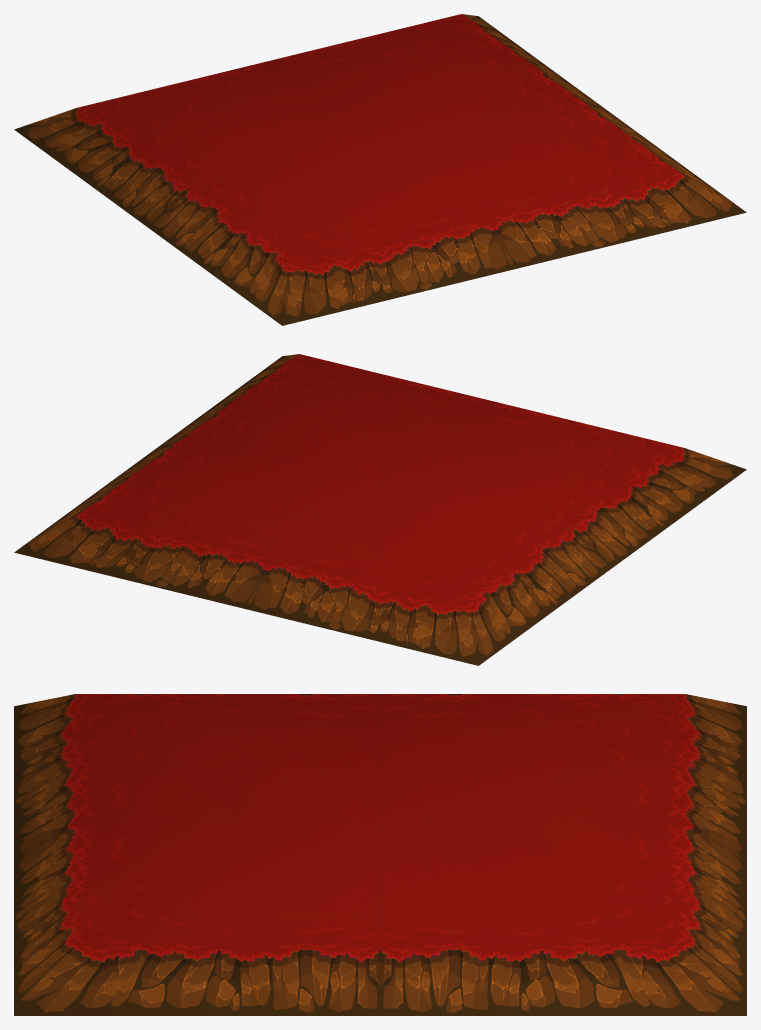
Rendered from Land_01b.FBX.
3 renders of one model, top to bottom at view 1: azimuth 30°, elevation 25°; view 2: azimuth 150°, elevation 25°; view 3: azimuth 270°, elevation 25°, orthographic. The views are drawn at different scales.
Parts seen in each view (by area): view 1: Land_01b; view 2: Land_01b; view 3: Land_01b.
Boxes of the visible parts, x1,y1,x2,y2 form: Land_01b: [14, 14, 746, 325]; Land_01b: [14, 354, 746, 665]; Land_01b: [14, 694, 746, 1015].
Size of the model in its own units: 10064 by 586 by 10066.
